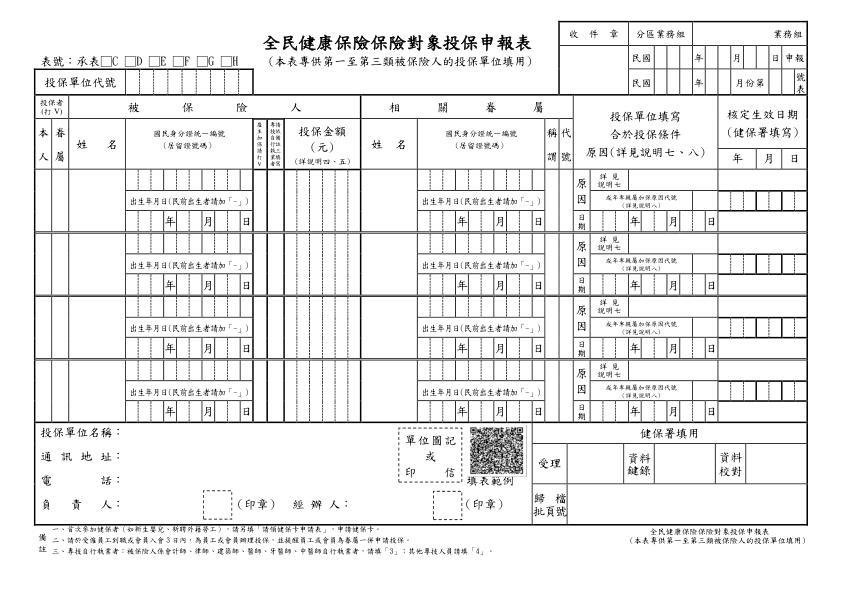table: (30, 93, 817, 527), (555, 17, 810, 95), (33, 69, 257, 93)
text: (36, 525, 501, 560), (257, 25, 536, 70), (627, 527, 810, 548), (36, 53, 98, 65), (159, 51, 170, 68), (184, 51, 195, 67), (208, 51, 219, 67), (232, 51, 243, 66), (136, 50, 143, 67), (113, 51, 120, 66)
